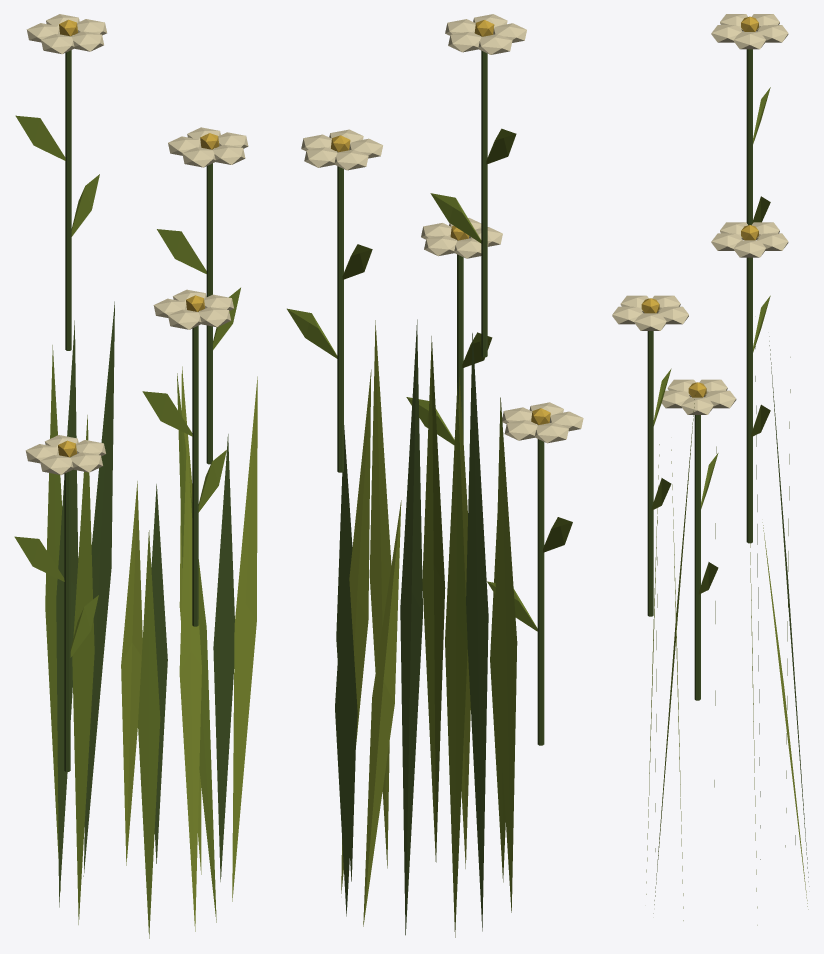
Rendered from meadow_flowers.glb.
The picture shows the model from 3 angles, left to right: view 1: azimuth 30°, elevation 25°; view 2: azimuth 150°, elevation 25°; view 3: azimuth 270°, elevation 25°; orthographic projection. The views are drawn at different scales.
Visible parts, largest first — view 1: body; view 2: body; view 3: body.
Part boxes in pixels (left/top/right/bottom): body: left=14, top=14, right=257, bottom=938; body: left=287, top=14, right=583, bottom=937; body: left=612, top=14, right=809, bottom=925.
Size of the model in its own units: 0.27 by 0.905 by 0.1891.
